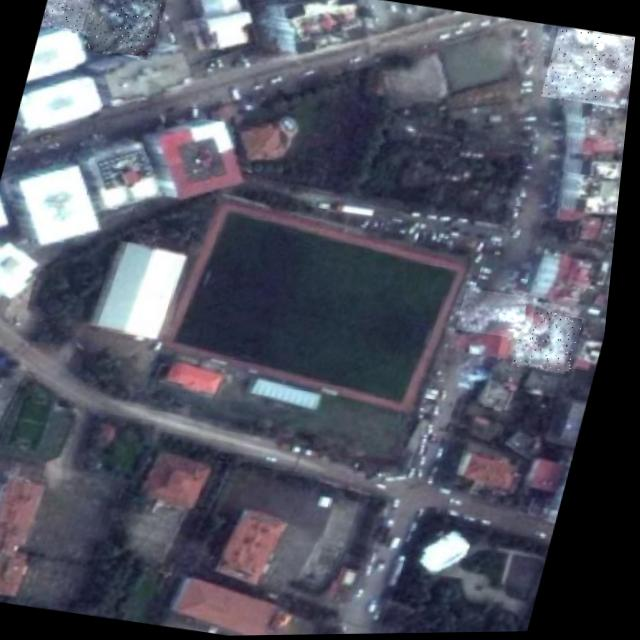Rubble: (540, 29, 637, 112), (80, 0, 168, 62), (517, 310, 591, 377), (461, 289, 545, 343), (39, 0, 92, 33)
